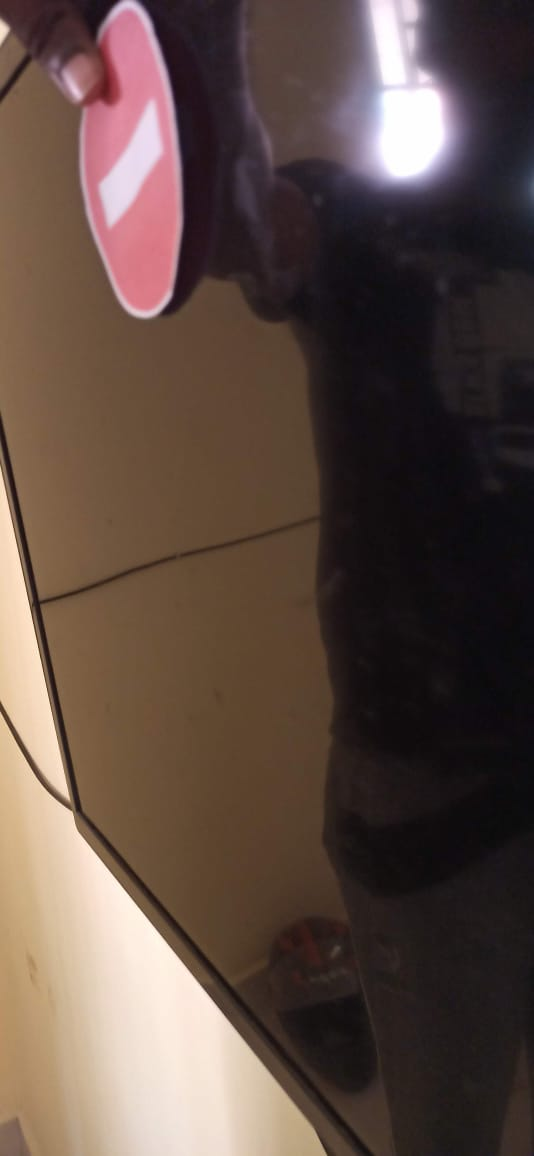NO ENTRY: (51, 1, 232, 332)
